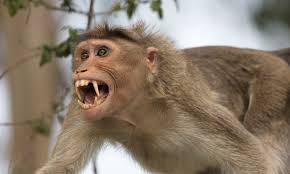monkey: (28, 2, 283, 170)
